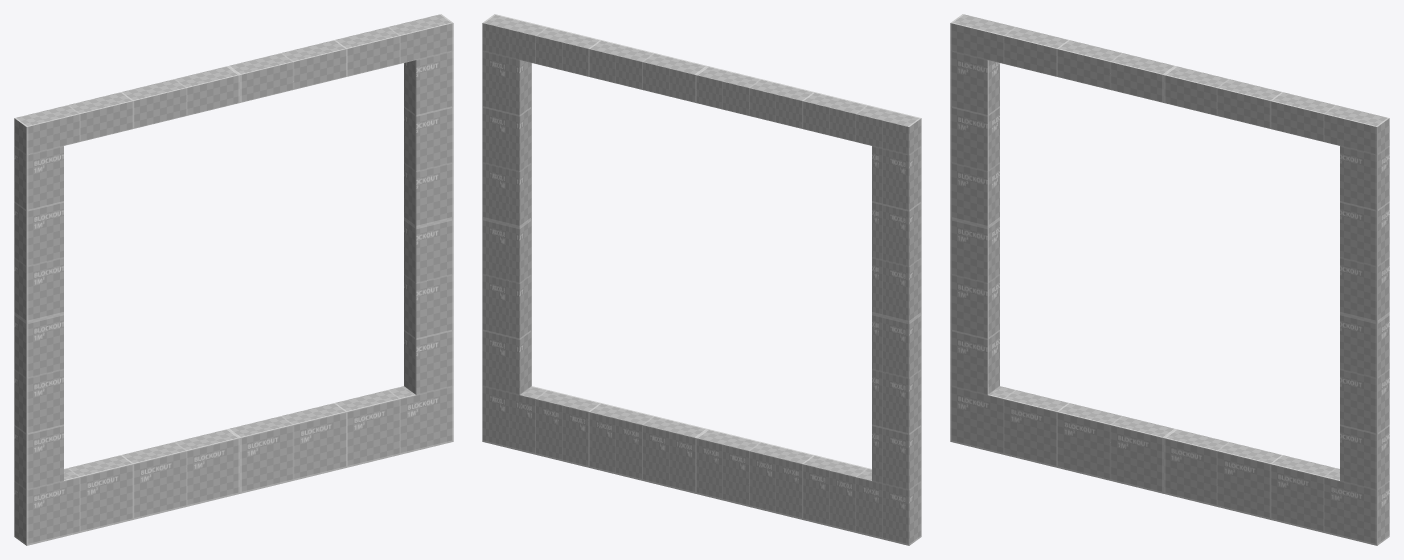
The model's file is BlockoutThinWall08WindowFull.fbx.
The picture shows the model from 3 angles, left to right: view 1: azimuth 30°, elevation 25°; view 2: azimuth 150°, elevation 25°; view 3: azimuth 330°, elevation 25°; orthographic projection.
Parts seen in each view (by area): view 1: BlockoutThinWall08WindowFull; view 2: BlockoutThinWall08WindowFull; view 3: BlockoutThinWall08WindowFull.
Part boxes in pixels (x1=…): BlockoutThinWall08WindowFull: x1=14, y1=14, x2=453, y2=545; BlockoutThinWall08WindowFull: x1=482, y1=14, x2=921, y2=545; BlockoutThinWall08WindowFull: x1=950, y1=14, x2=1389, y2=545.
Size of the model in its own units: 800 by 750 by 40.
